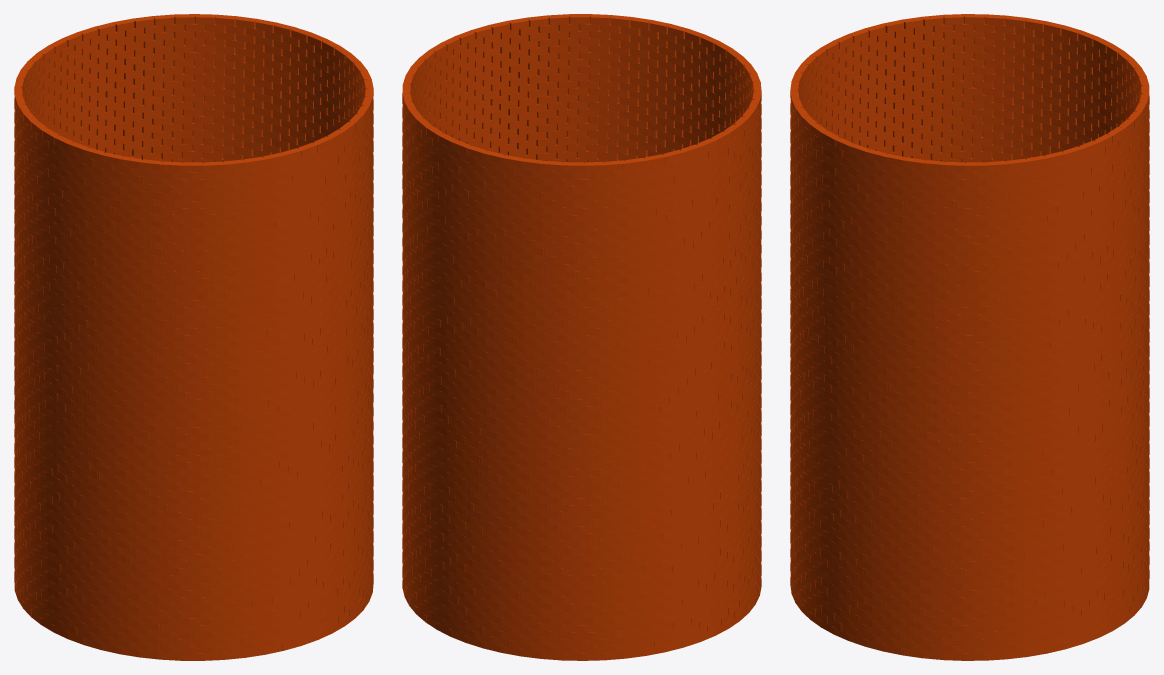
The model's file is colodec.obj.
3 views of the same model, side by side, from view 1: azimuth 30°, elevation 25°; view 2: azimuth 150°, elevation 25°; view 3: azimuth 270°, elevation 25° (orthographic).
Visible parts, largest first — view 1: Cube; view 2: Cube; view 3: Cube.
Boxes of the visible parts, x1=… form: Cube: x1=14, y1=14, x2=373, y2=660; Cube: x1=402, y1=14, x2=761, y2=660; Cube: x1=790, y1=14, x2=1149, y2=660.
Size of what is drawn, in the model's own units: 40.99 by 62.3 by 40.99.
